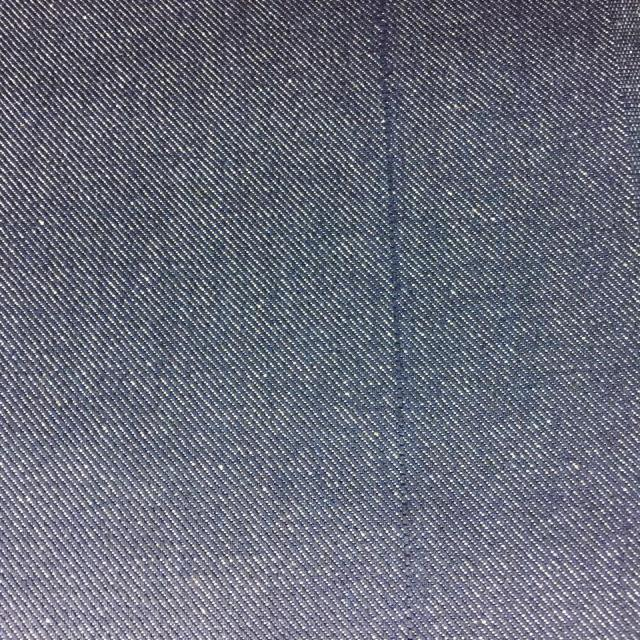Line: (370, 0, 415, 640)
